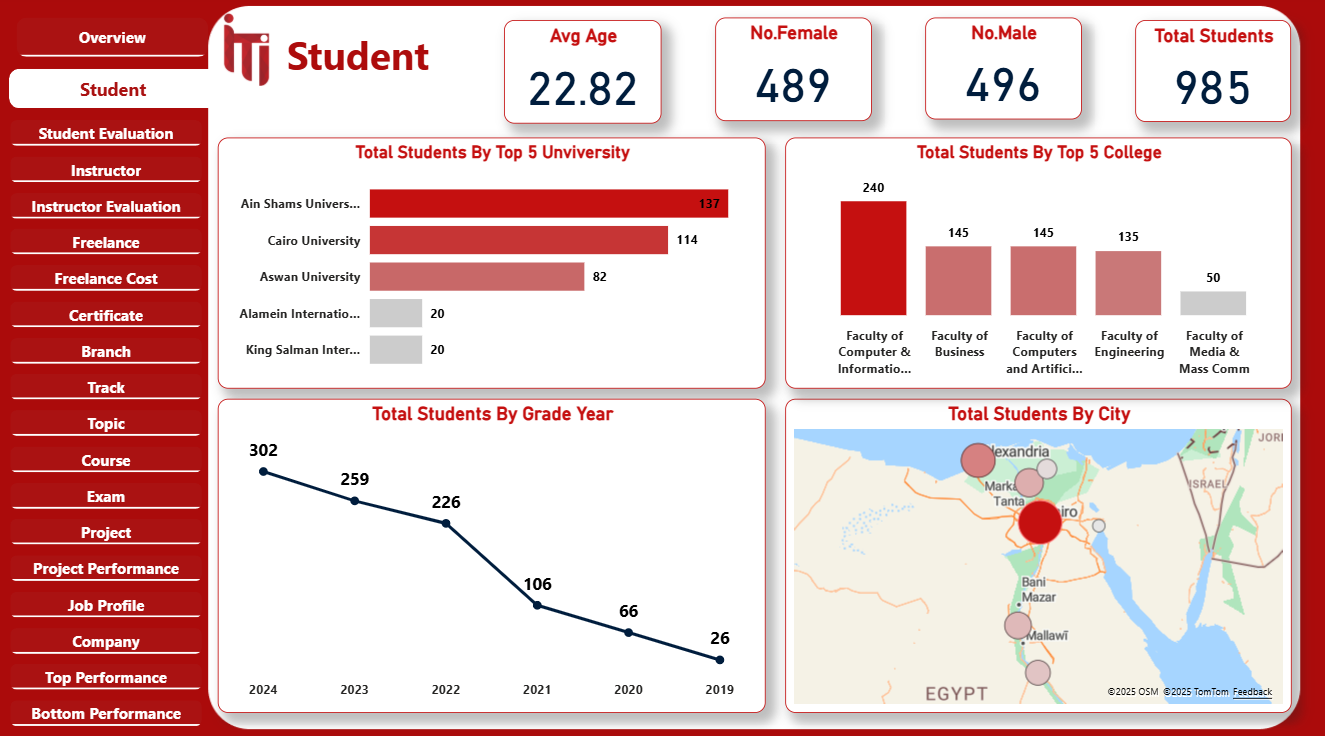

This screenshot's page, from the dashboard's own definition file:
{"tool":"powerbi","page":{"name":"Student","canvas":[1280,720],"ordinal":1},"visuals":[{"type":"azureMap","title":"Total Students By City","fields":{"Category":["vw_Dim_Student.city"],"Size":["Count(Fact_Student_Performance.st_id)"]},"box":[758.4,389.5,489,303.4],"z":0},{"type":"card","title":"Total Students","fields":{"Values":["CountNonNull(vw_Dim_Student.st_id)"]},"box":[1097,24.3,150.5,98.3],"z":1000},{"type":"card","title":"No.Male","fields":{"Values":["Measures_.No. Males"]},"box":[894.2,22,150.9,98.8],"z":2000},{"type":"card","title":"No.Female","fields":{"Values":["Measures_.No. Females"]},"box":[691.3,22,150.9,100.2],"z":3000},{"type":"card","title":"Avg Age","fields":{"Values":["Avg(vw_Dim_Student.Age)"]},"box":[487.1,24.7,152.3,100.2],"z":4000},{"type":"clusteredBarChart","title":"Total Students By Top 5 Unviversity","fields":{"Category":["vw_Dim_Student.University"],"Y":["Count(Fact_Student_Performance.st_id)"]},"box":[211.1,137.1,529.1,242.7],"z":5000},{"type":"columnChart","title":"Total Students By Top 5 College","fields":{"Category":["vw_Dim_Student.College"],"Y":["Count(Fact_Student_Performance.st_id)"]},"box":[758.4,137.1,489,242.7],"z":6000},{"type":"lineChart","title":"Total Students By Grade Year","fields":{"Category":["vw_Dim_Student.grade_year"],"Y":["Count(Fact_Student_Performance.st_id)"]},"box":[211.1,389.5,529.1,303.4],"z":7000},{"type":"textbox","box":[230.5,27.4,231.9,65.9],"z":8000},{"type":"pageNavigator","box":[11,120.8,185.2,599.7],"z":9000},{"type":"pageNavigator","box":[16.5,22,185.2,38.4],"z":10000},{"type":"pageNavigator","box":[9.6,71.4,201.7,38.4],"z":11000},{"type":"image","box":[196.2,4.1,86.4,89.2],"z":12000}]}

Visuals, with their boxes on the page's 1280x720 design canvas (x1, y1, x2, y2). These are canvas units, not pixel positions in the 1325x736 screenshot, which may show the page scaled, cropped or inside an application window:
"Total Students By City" azureMap: rect(758, 390, 1247, 693)
"Total Students" card: rect(1097, 24, 1248, 123)
"No.Male" card: rect(894, 22, 1045, 121)
"No.Female" card: rect(691, 22, 842, 122)
"Avg Age" card: rect(487, 25, 639, 125)
"Total Students By Top 5 Unviversity" clusteredBarChart: rect(211, 137, 740, 380)
"Total Students By Top 5 College" columnChart: rect(758, 137, 1247, 380)
"Total Students By Grade Year" lineChart: rect(211, 390, 740, 693)
textbox: rect(230, 27, 462, 93)
pageNavigator: rect(11, 121, 196, 720)
pageNavigator: rect(16, 22, 202, 60)
pageNavigator: rect(10, 71, 211, 110)
image: rect(196, 4, 283, 93)
